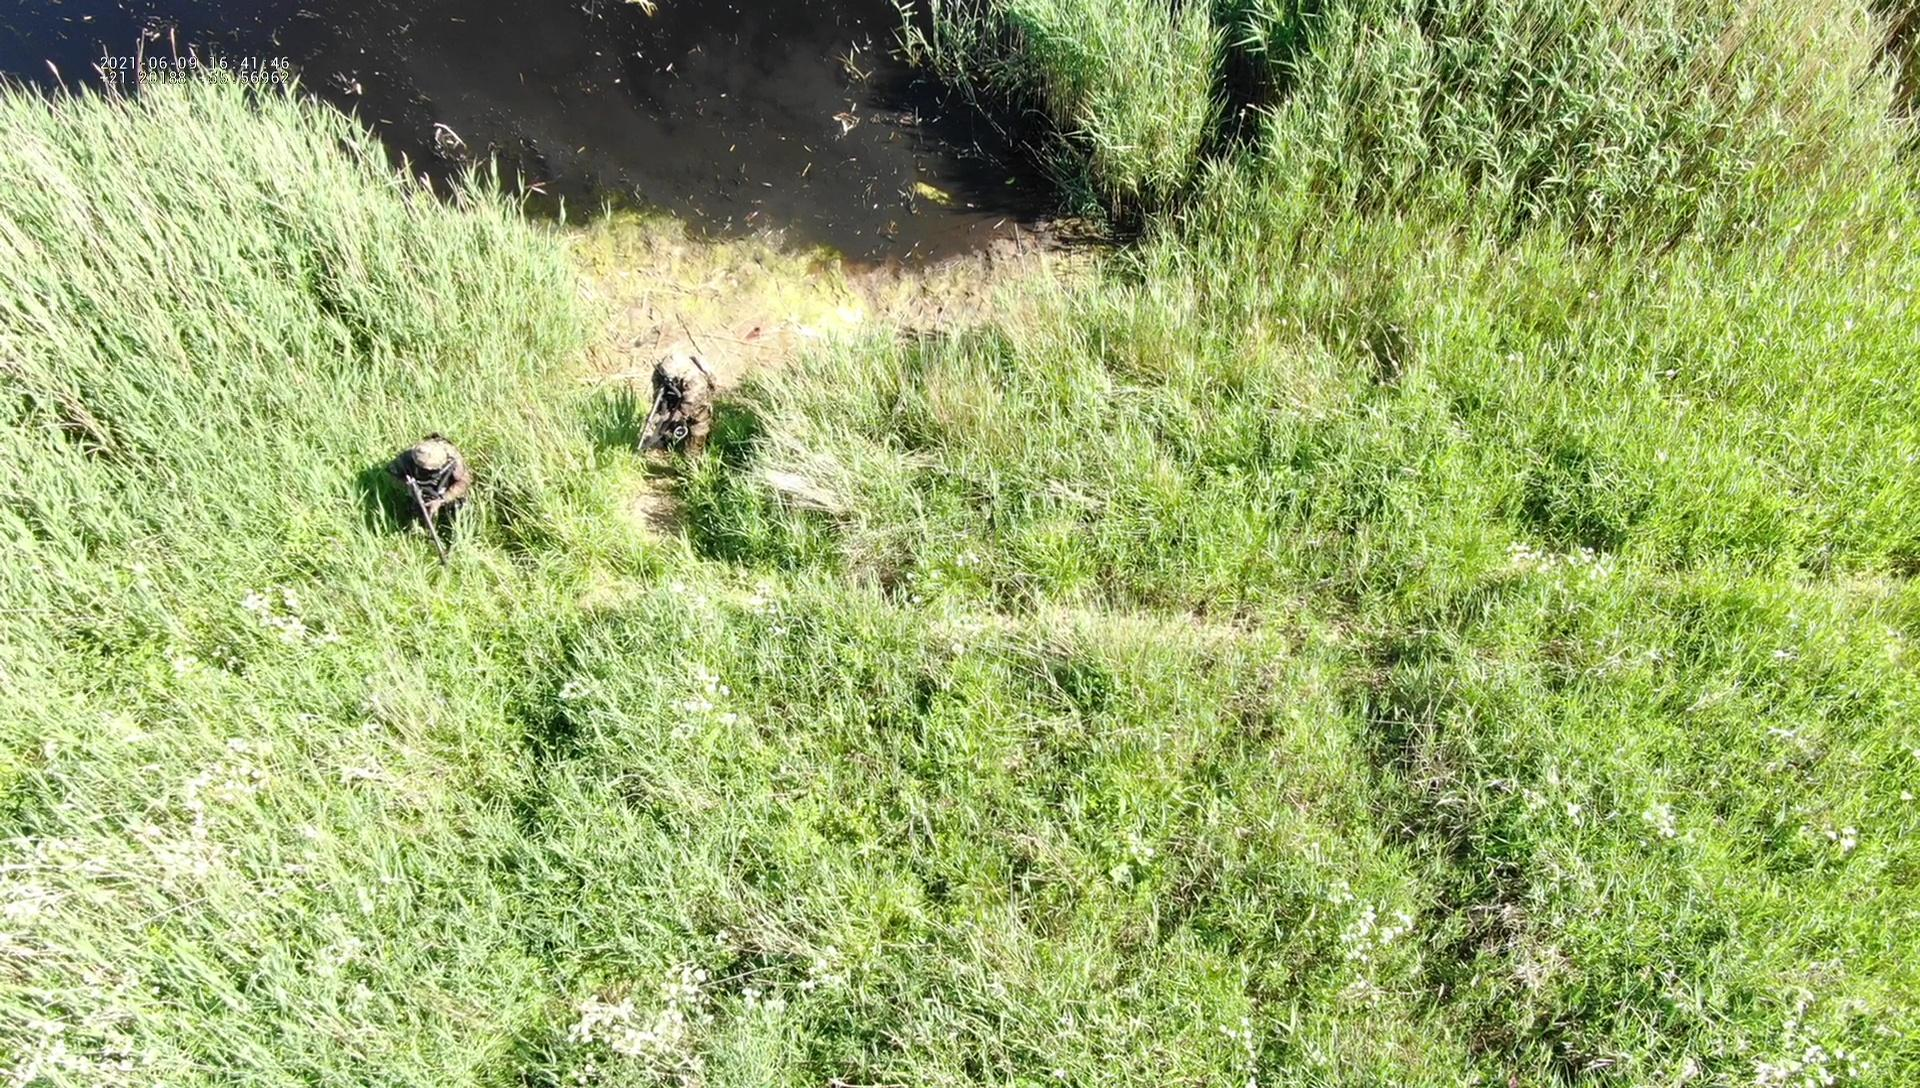Soldier: (394, 433, 473, 568), (634, 349, 717, 469)
